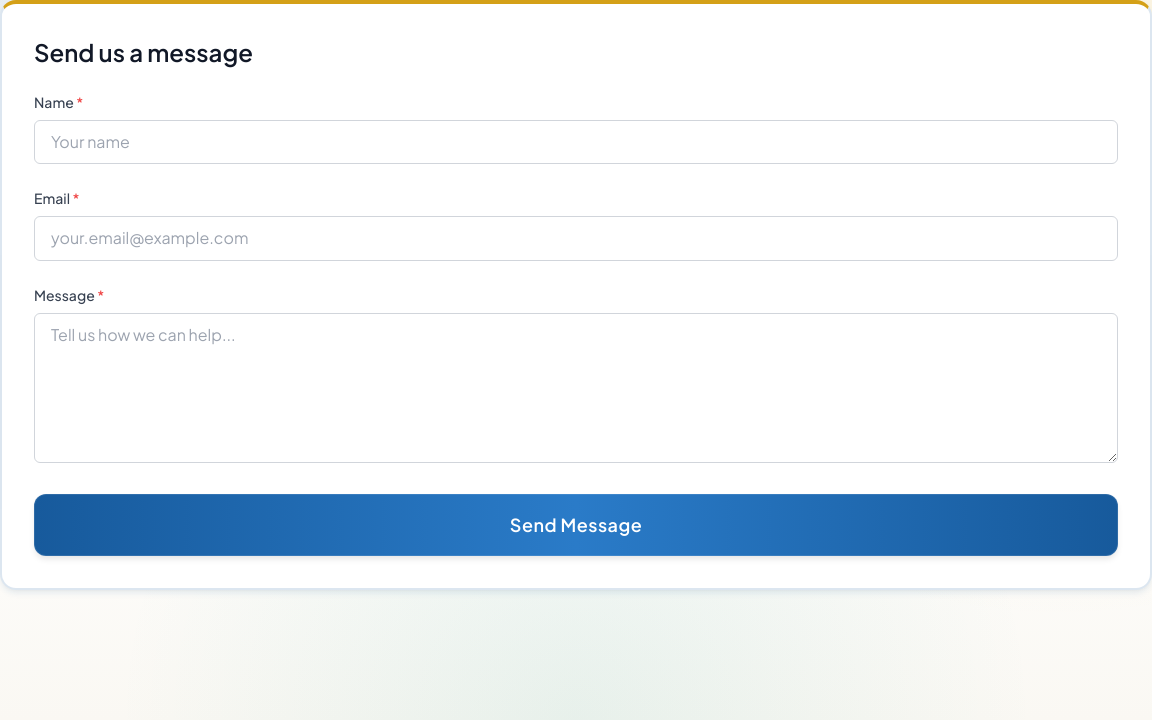
Scenario: ContactForm Component › Form Submission › should show success message after successful submission
Type "John Doe" into the field labelled "Name *" at [576, 142], box [34, 120, 1118, 164]
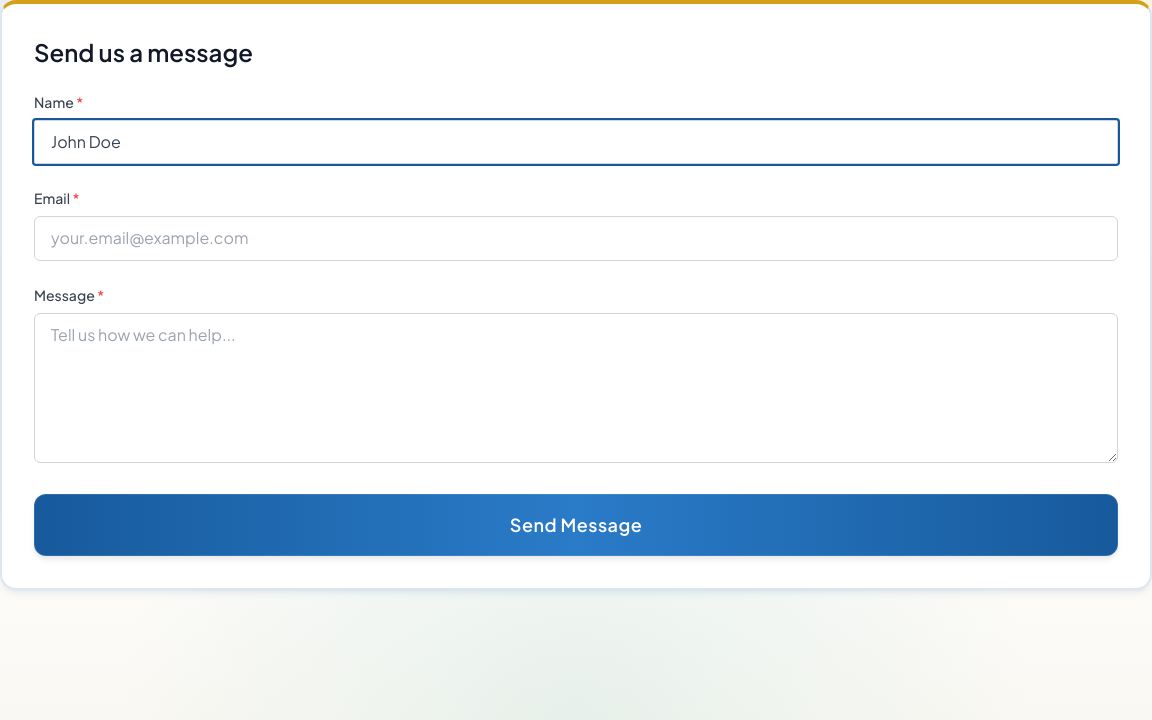
Type "john@example.com" into the field labelled "Email *" at [576, 239], box [34, 216, 1118, 261]
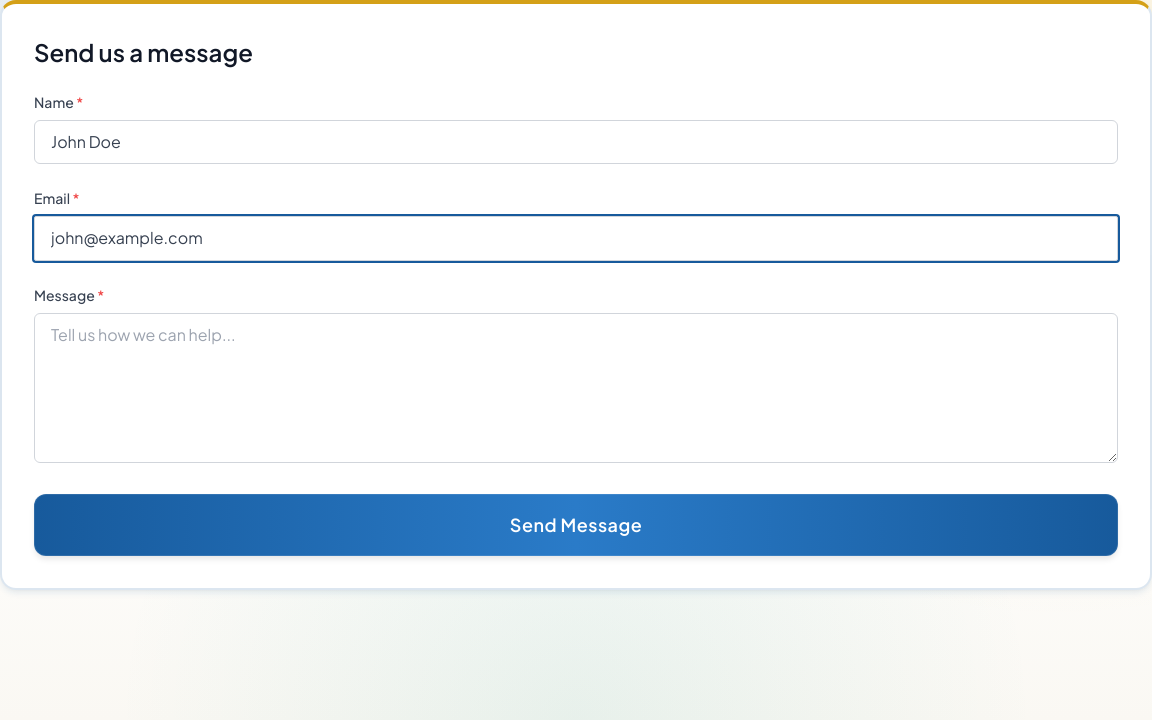
Type "Test message" into the text box labelled "Message *" at [576, 388], box [34, 313, 1118, 463]
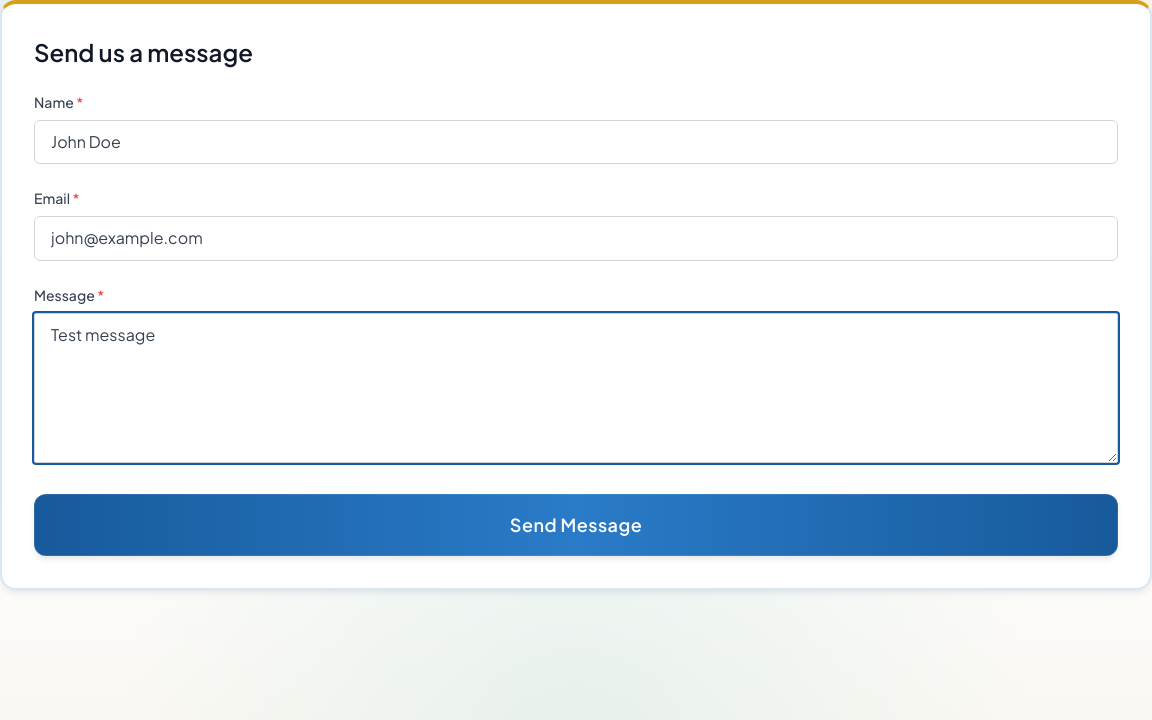
Click the button "Send Message" at [576, 525], box [34, 494, 1118, 556]
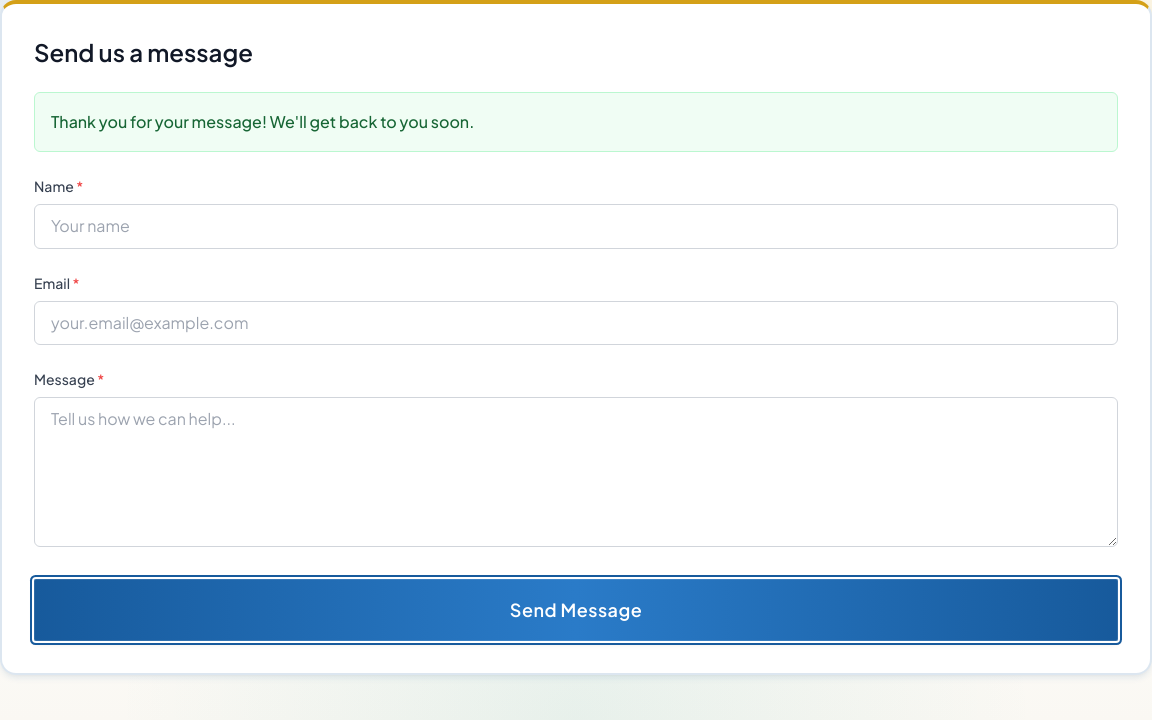
Expected: the text "Thank you for your message! We'll get back to you soon." is shown, [51, 111, 474, 132]
